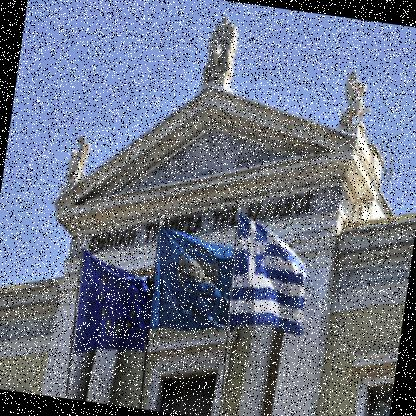gr: (221, 211, 325, 344)
